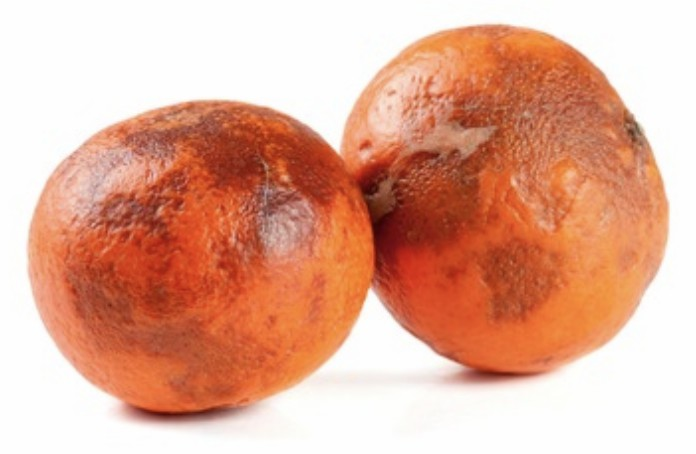rotten_orange: (340, 25, 670, 378), (26, 101, 375, 413)
